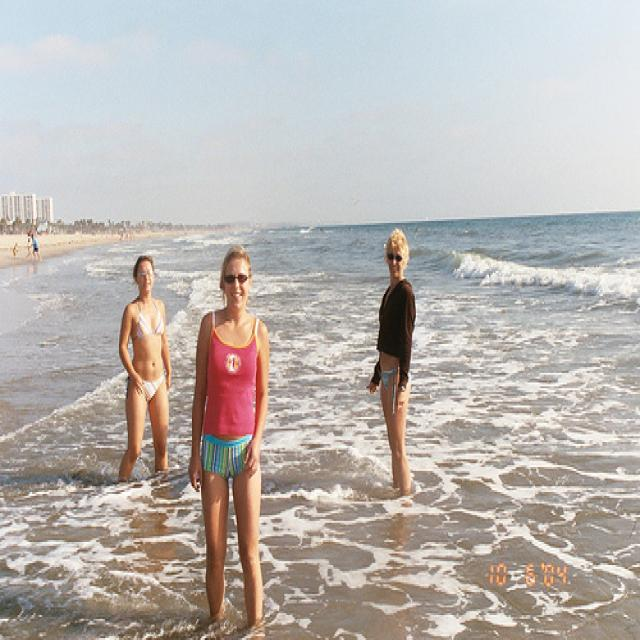person: (189, 243, 270, 630), (367, 228, 415, 505), (116, 255, 174, 480), (31, 232, 44, 266)
